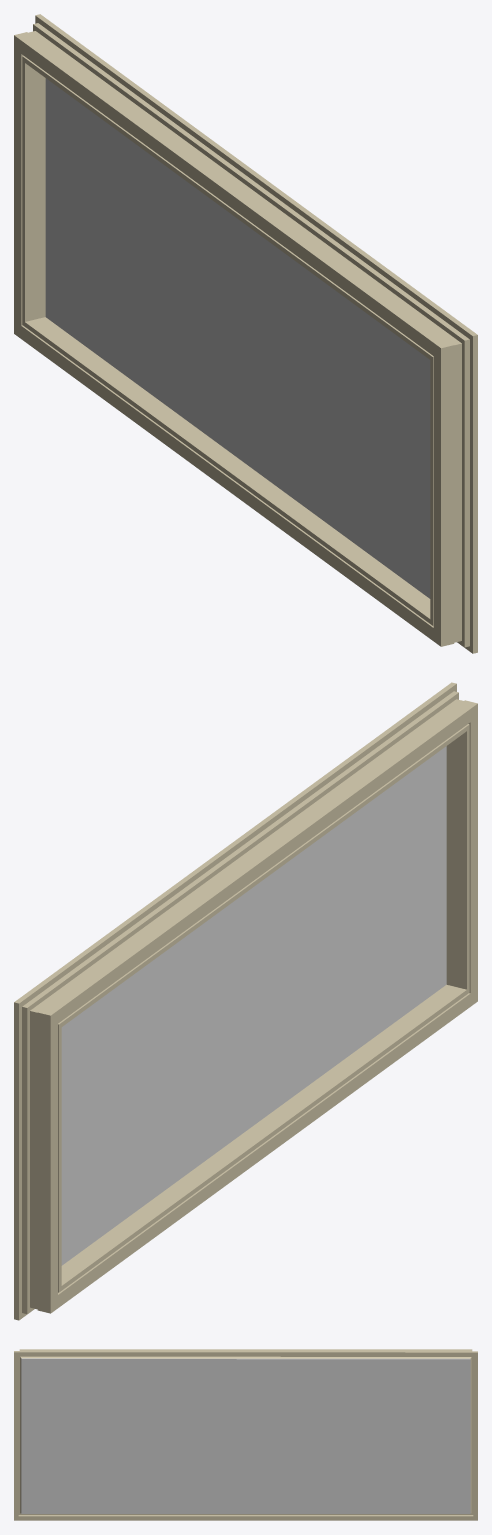
3 renders of one model, top to bottom at view 1: azimuth 30°, elevation 25°; view 2: azimuth 150°, elevation 25°; view 3: azimuth 270°, elevation 25°, orthographic. The views are drawn at different scales.
Parts seen in each view (by area): view 1: AWS114_SG Manual:AWS114 SG Manual CW:7063849; view 2: AWS114_SG Manual:AWS114 SG Manual CW:7063849; view 3: AWS114_SG Manual:AWS114 SG Manual CW:7063849.
Boxes of the visible parts, bbox=[...] form: AWS114_SG Manual:AWS114 SG Manual CW:7063849: bbox=[14, 14, 477, 653]; AWS114_SG Manual:AWS114 SG Manual CW:7063849: bbox=[14, 682, 477, 1320]; AWS114_SG Manual:AWS114 SG Manual CW:7063849: bbox=[14, 1349, 477, 1520].
Size of the model in its own units: 0.1058 by 1 by 2.5.
